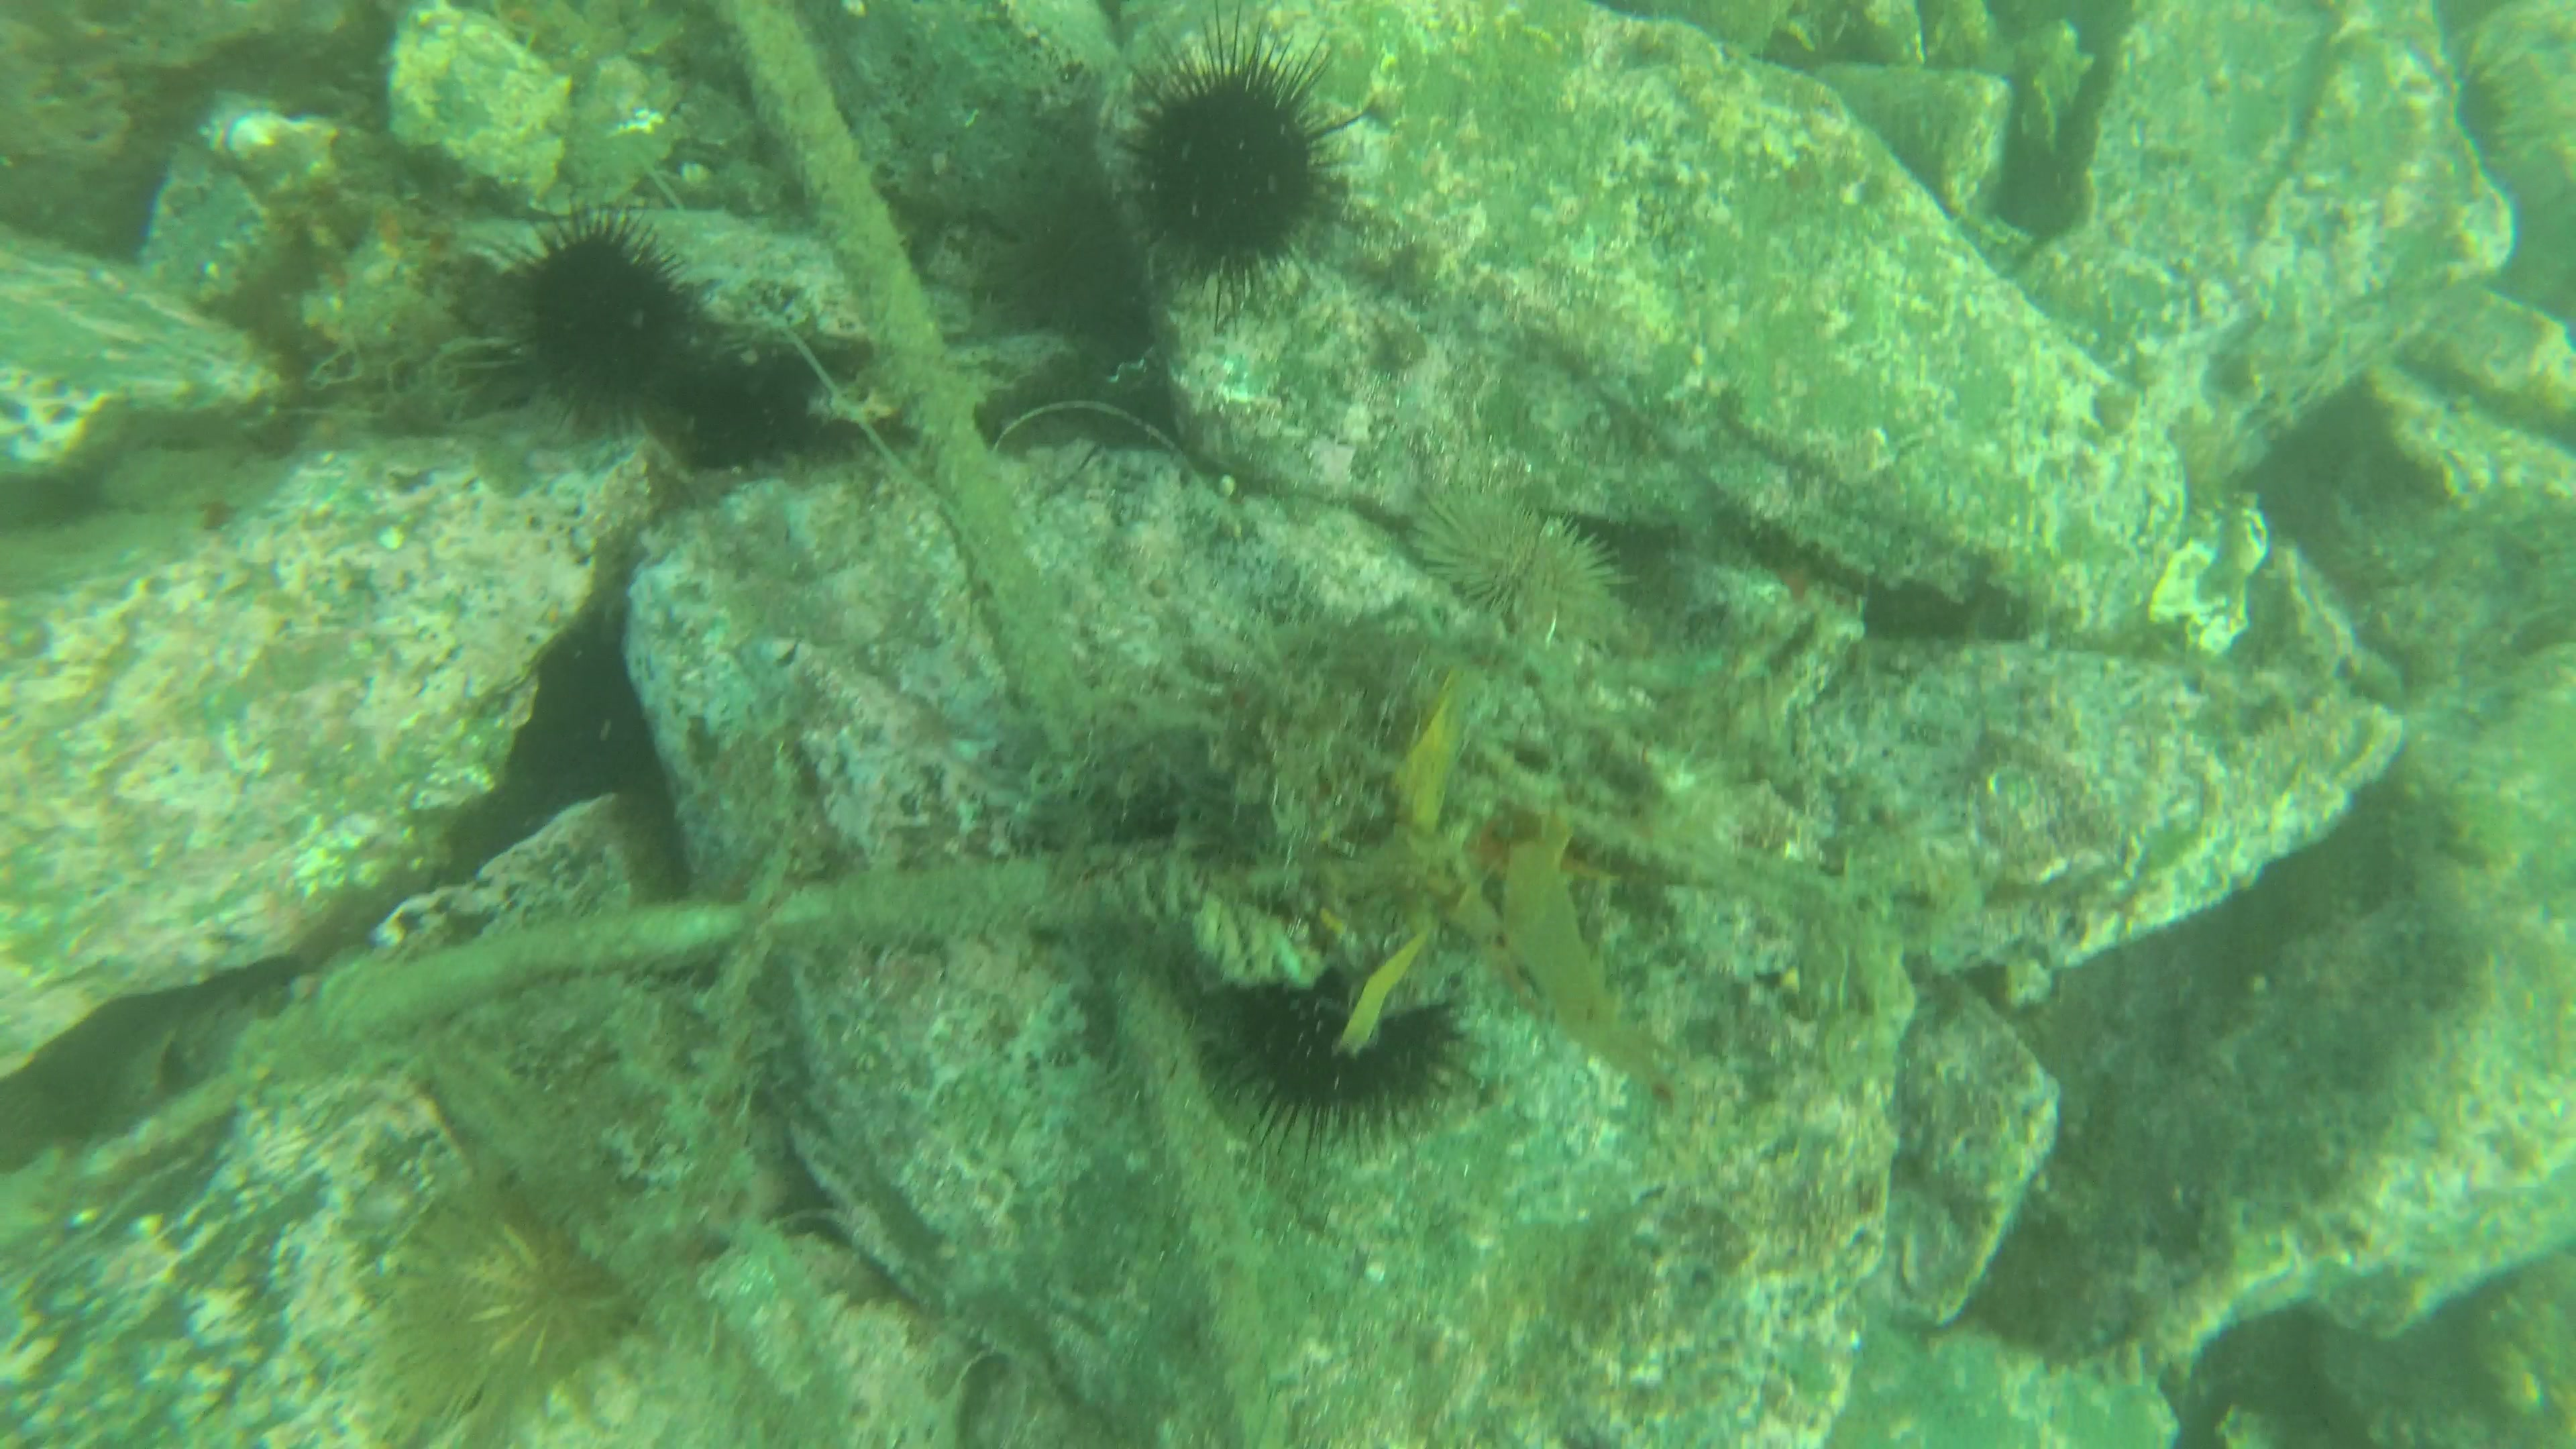echinus: (1095, 5, 1375, 295), (370, 1169, 648, 1430), (1201, 925, 1468, 1180), (1415, 467, 1626, 658), (495, 205, 694, 395), (695, 320, 855, 495)
